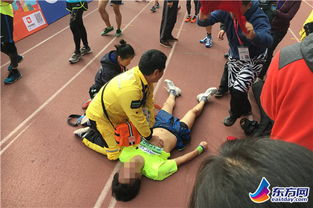10+: (1, 1, 311, 204)
down: (105, 74, 224, 204)
